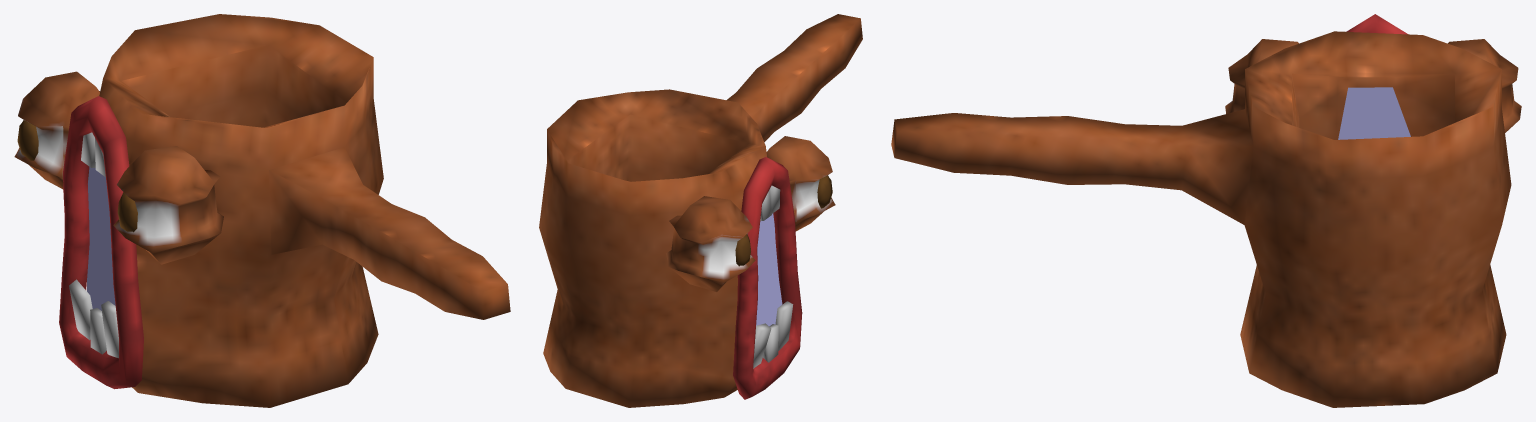
The model's file is TURKI4.fbx.
3 renders of one model, left to right at view 1: azimuth 30°, elevation 25°; view 2: azimuth 150°, elevation 25°; view 3: azimuth 270°, elevation 25°, orthographic. The views are drawn at different scales.
Visible parts, largest first — view 1: Body; view 2: Body; view 3: Body.
Boxes of the visible parts, x1,y1,x2,y2 form: Body: (14, 14, 510, 407); Body: (539, 14, 862, 407); Body: (891, 14, 1521, 407).
Size of what is drawn, in the model's own units: 259 by 242 by 505.
